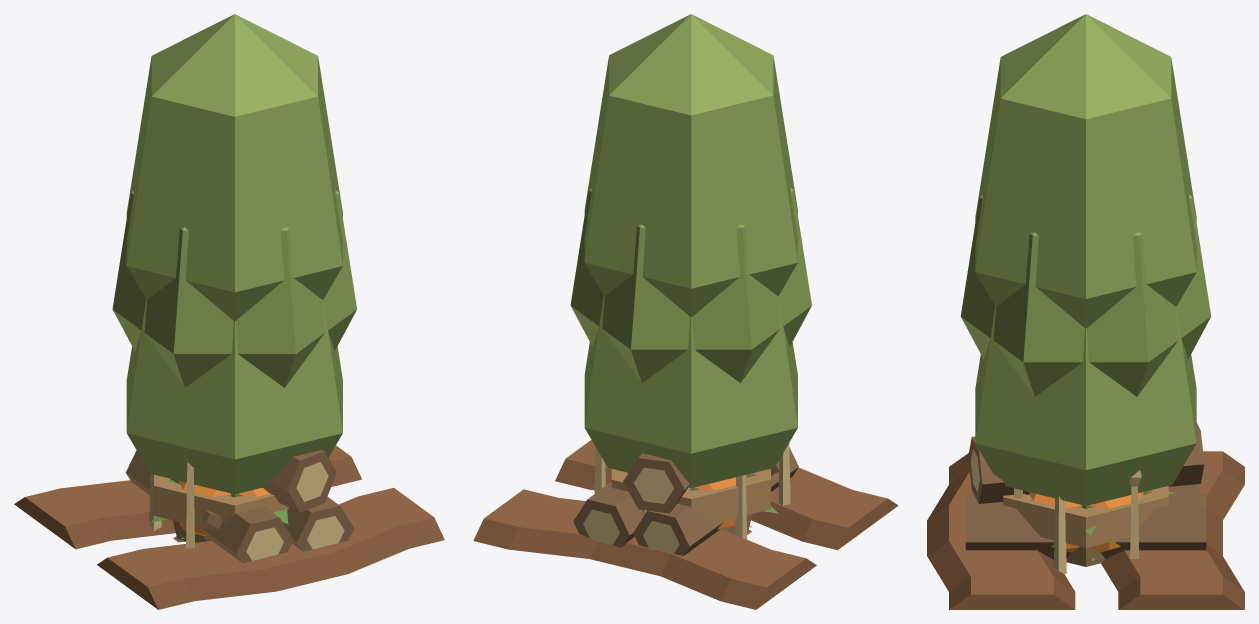
The model's file is farm-library.glb.
3 renders of one model, left to right at view 1: azimuth 30°, elevation 25°; view 2: azimuth 150°, elevation 25°; view 3: azimuth 270°, elevation 25°, orthographic. The views are drawn at different scales.
Parts seen in each view (by area): view 1: tree_default, tree_fat, crops_dirtDoubleRow, tree_oak, log_stack, pot_large, crops_wheatStageB, crop_pumpkin; view 2: tree_default, tree_fat, crops_dirtDoubleRow, tree_oak, log_stack, pot_large, crops_wheatStageB; view 3: tree_default, tree_fat, crops_dirtDoubleRow, tree_oak, log_stack, pot_large, crops_wheatStageB, crop_pumpkin.
Part boxes in pixels (x1,y1,x2,y2): tree_default: [126, 14, 342, 320]; tree_fat: [126, 299, 342, 494]; crops_dirtDoubleRow: [14, 445, 444, 609]; tree_oak: [112, 190, 356, 542]; log_stack: [125, 450, 354, 563]; pot_large: [154, 474, 288, 542]; crops_wheatStageB: [149, 455, 194, 548]; crop_pumpkin: [170, 479, 269, 536]; tree_default: [584, 14, 797, 316]; tree_fat: [584, 296, 797, 487]; crops_dirtDoubleRow: [473, 440, 898, 609]; tree_oak: [570, 188, 811, 535]; log_stack: [573, 447, 798, 555]; pot_large: [611, 469, 770, 534]; crops_wheatStageB: [594, 443, 790, 539]; tree_default: [975, 14, 1196, 328]; tree_fat: [975, 306, 1196, 505]; crops_dirtDoubleRow: [927, 451, 1244, 609]; tree_oak: [960, 194, 1211, 396]; log_stack: [965, 423, 1206, 559]; pot_large: [1003, 486, 1168, 566]; crops_wheatStageB: [1013, 470, 1141, 574]; crop_pumpkin: [1028, 490, 1151, 552].
Bounding box in the file's own units: 1 × 1.71 × 0.938.
